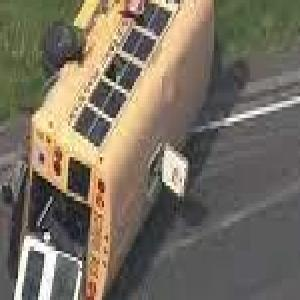serious: (0, 0, 218, 300)
